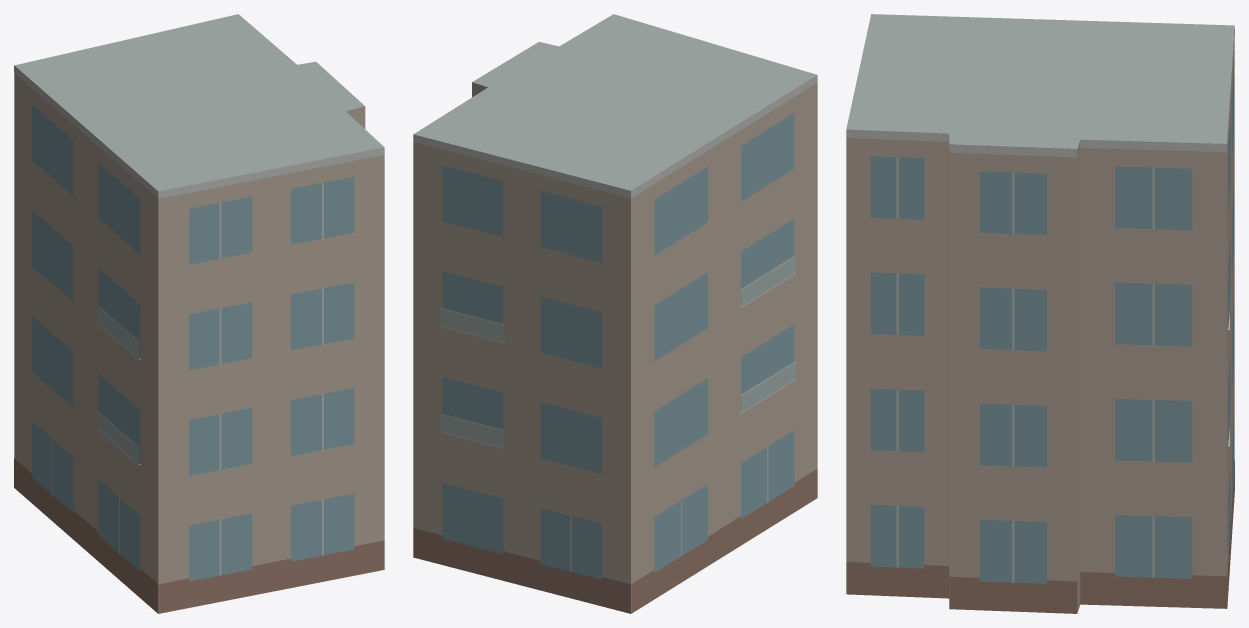
The model's file is survey-upis-32462407.glb.
3 renders of one model, left to right at view 1: azimuth 30°, elevation 25°; view 2: azimuth 150°, elevation 25°; view 3: azimuth 270°, elevation 25°, orthographic. The views are drawn at different scales.
Visible parts, largest first — view 1: survey-upis-32462407.tmp; view 2: survey-upis-32462407.tmp; view 3: survey-upis-32462407.tmp.
Part boxes in pixels (x1=…): survey-upis-32462407.tmp: x1=14, y1=14, x2=384, y2=613; survey-upis-32462407.tmp: x1=413, y1=14, x2=817, y2=613; survey-upis-32462407.tmp: x1=846, y1=14, x2=1234, y2=613.
Bounding box in the file's own units: 8.48 × 13.6 × 10.31.
